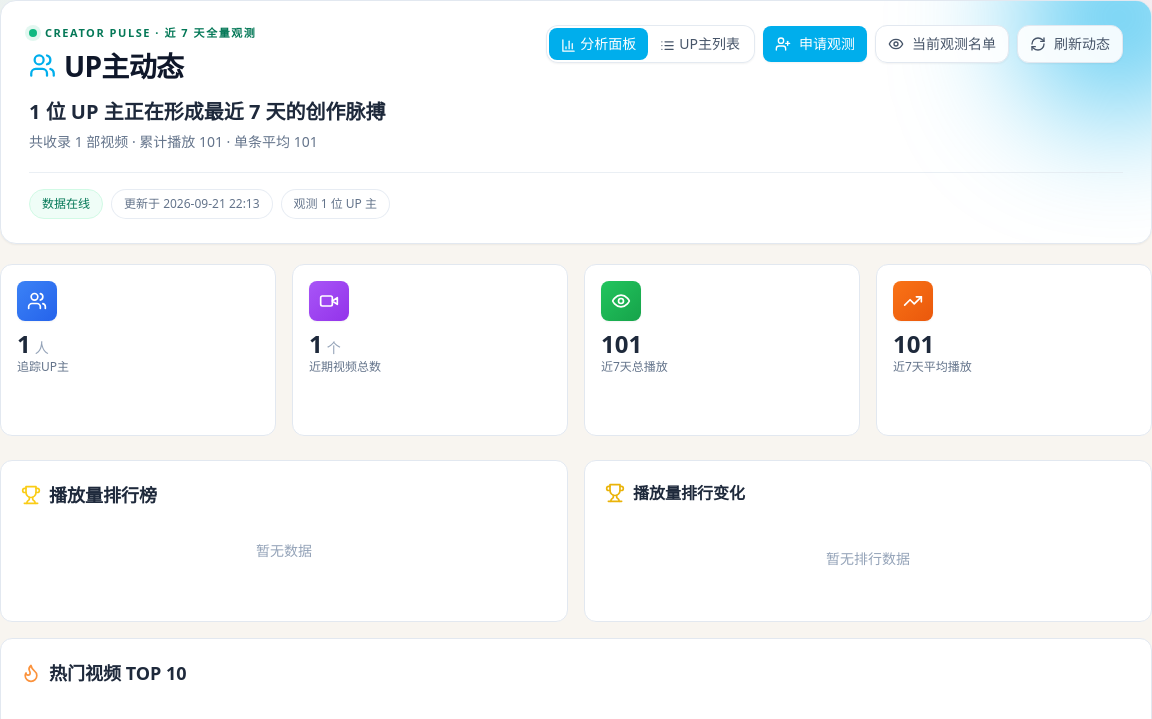
durable analysis jobs › takes over a busy task instead of starting again
The width and height of the screenshot is (1152, 719).
Click the button "刷新动态".
click(1070, 44)  # box [1017,25,1123,63]
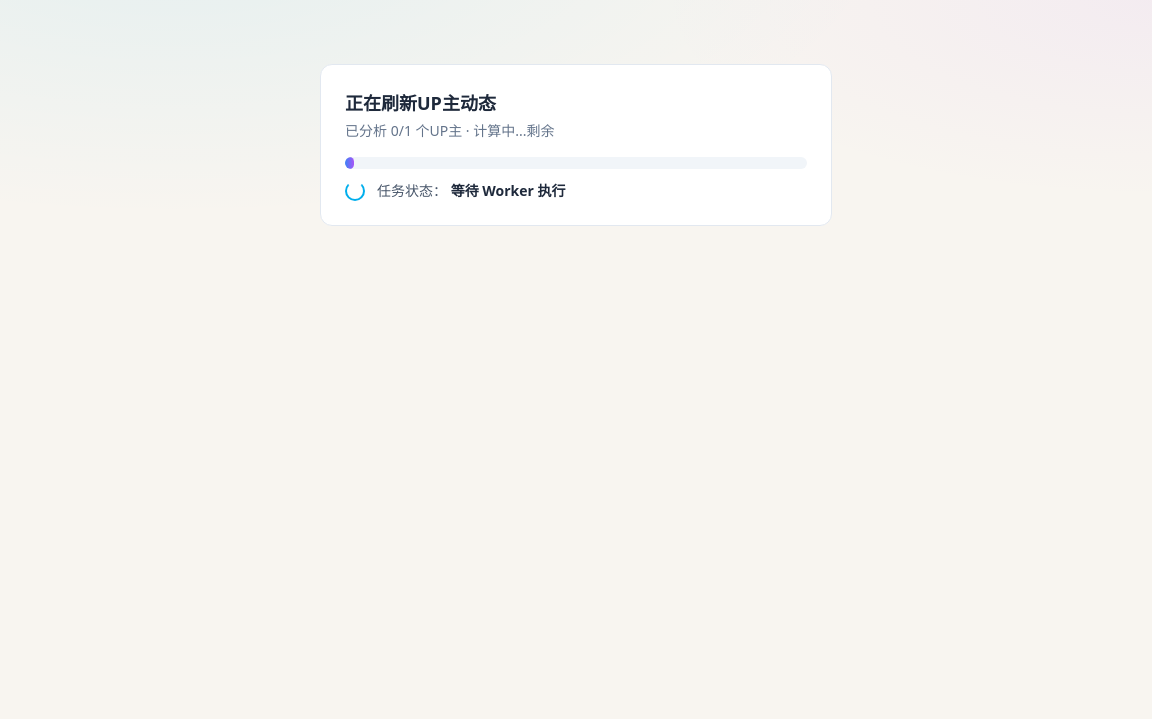
Now the text "等待 Worker 执行" is shown, box [451,181,566,200]
